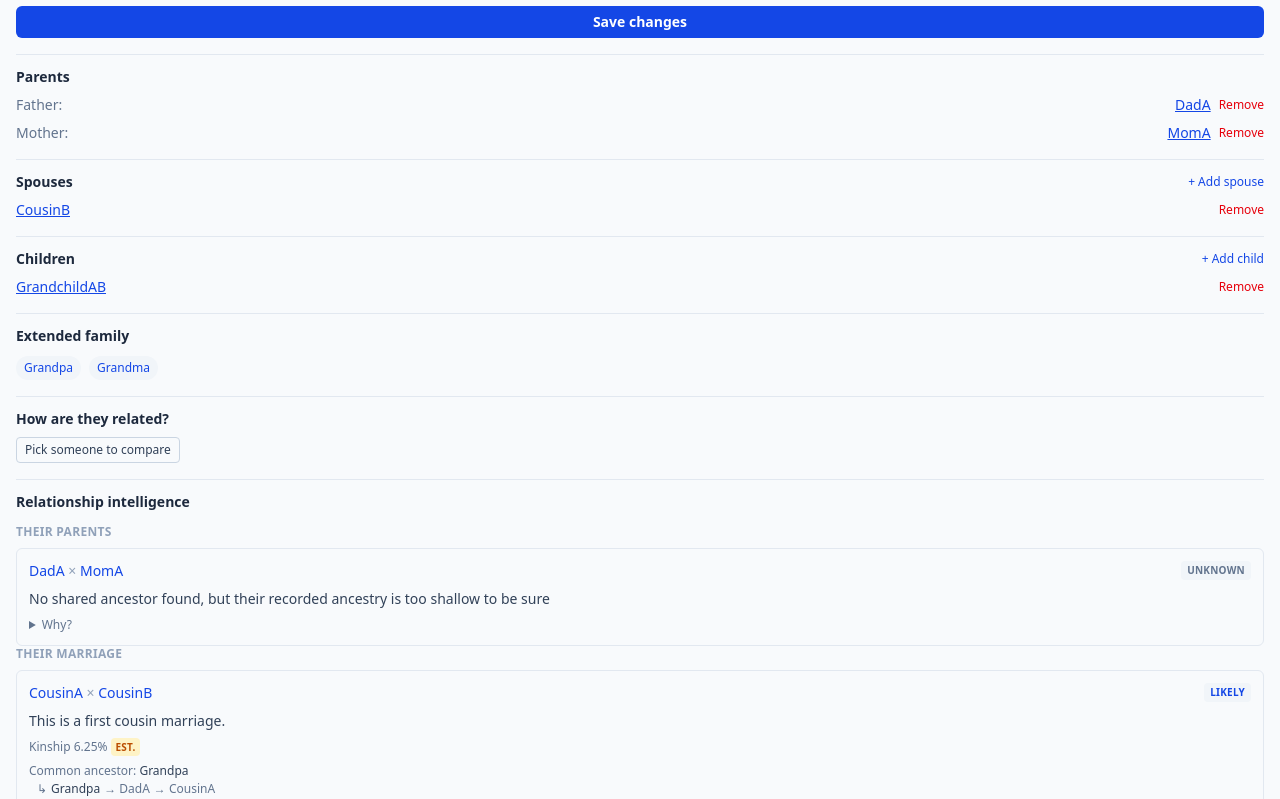
Scenario: PersonInspector › names a cousin link between two arbitrary people, with confidence (S-1)
(page scrolled)
Step 1. Click the button "Pick someone to compare" → (98, 450), box [16,437,180,463]
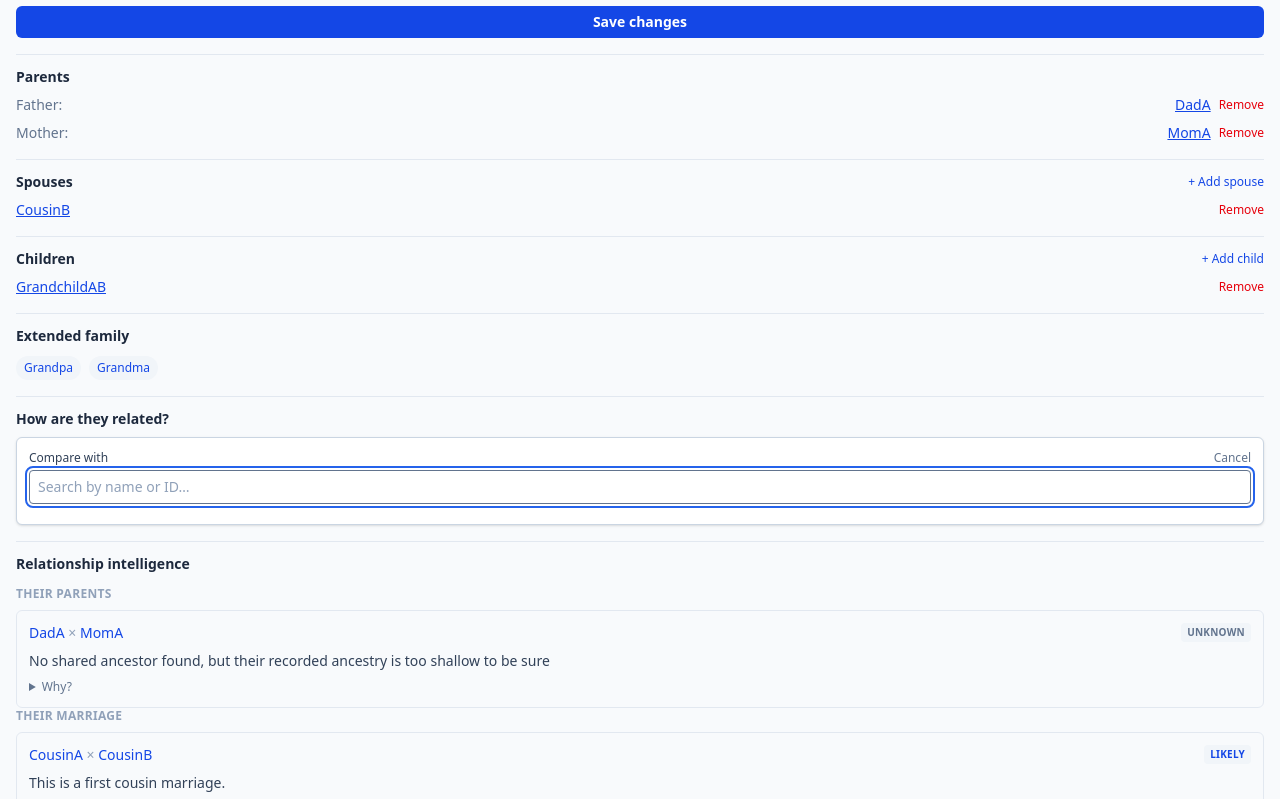
Step 2. Type "CousinB" into the field labelled "Compare with" → (640, 487), box [29,470,1251,504]
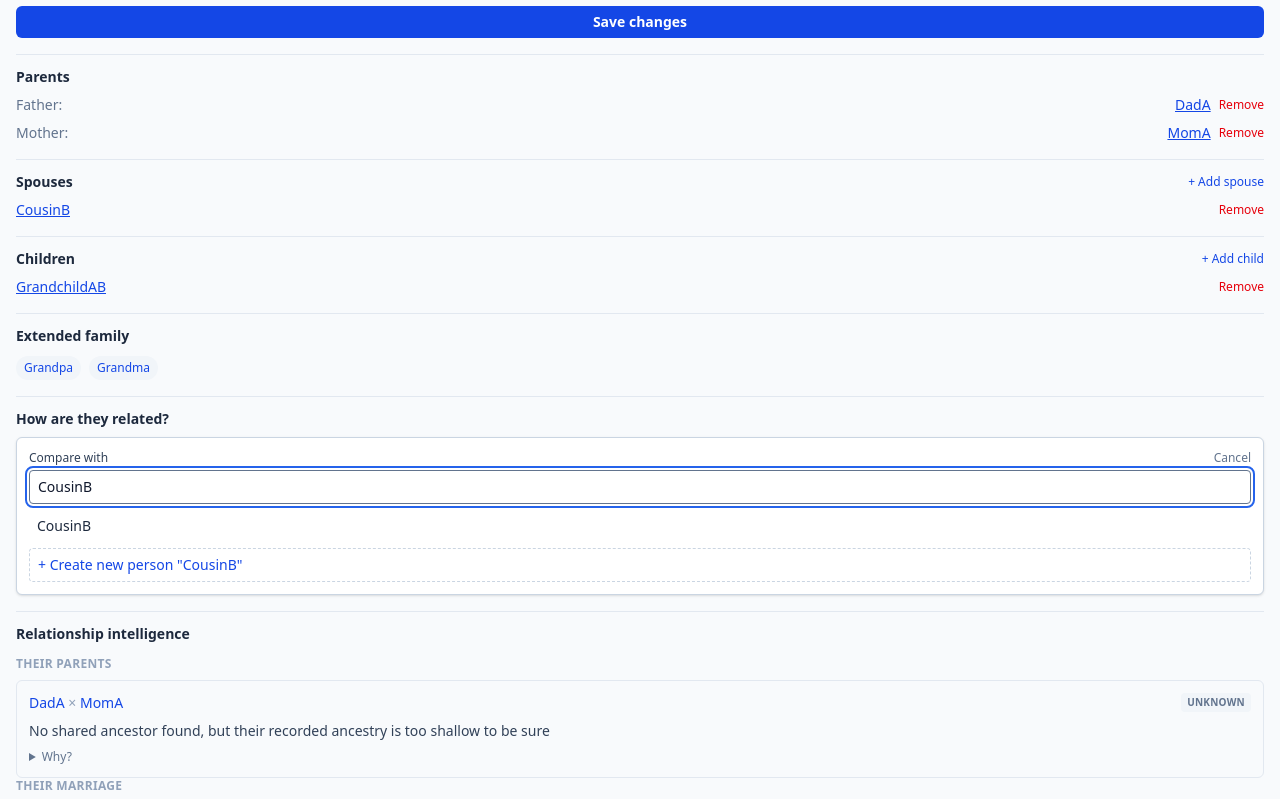
Step 3. Click the button "CousinB" below "Compare with" → (64, 526), box [29,512,1251,540]
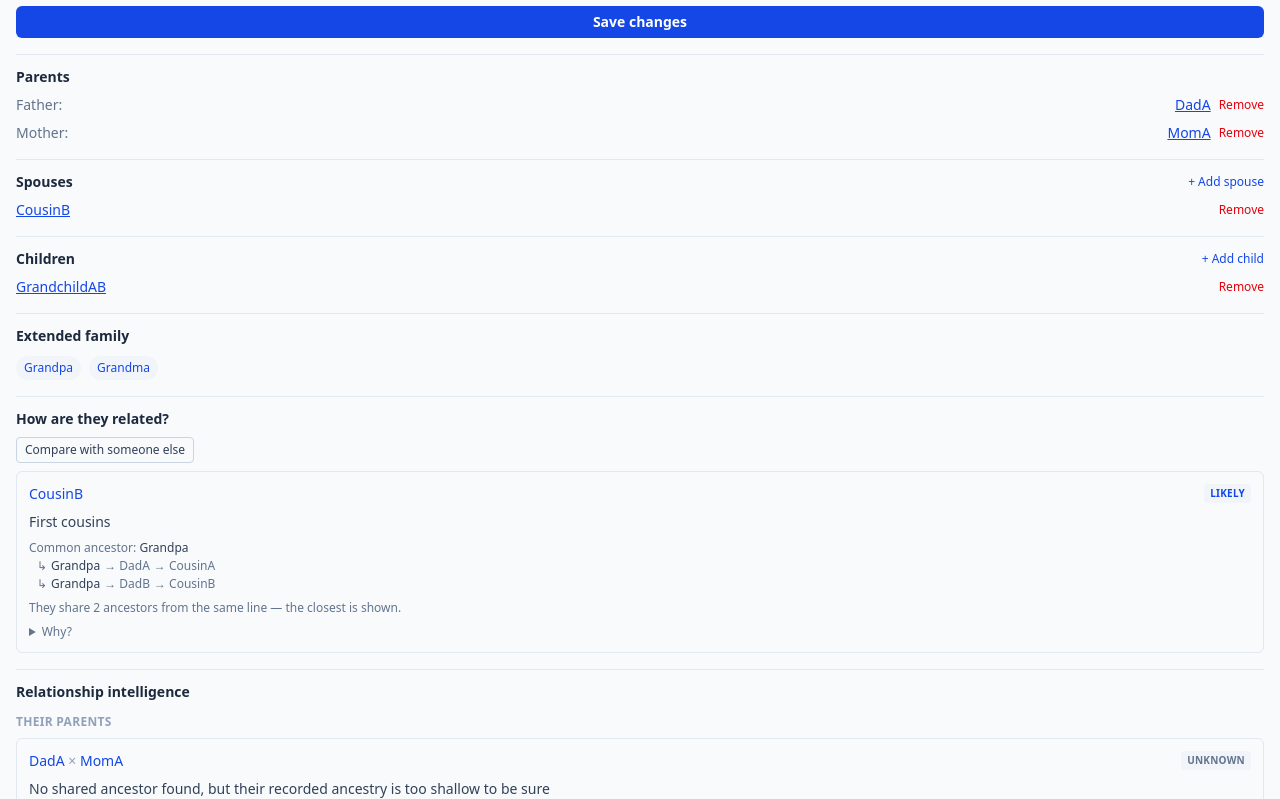
Result: the element with test id "relationship-result" shows "First cousins" at [29,512,111,531]
Result: the 1st text "likely" is shown at [1204,484,1251,503]
